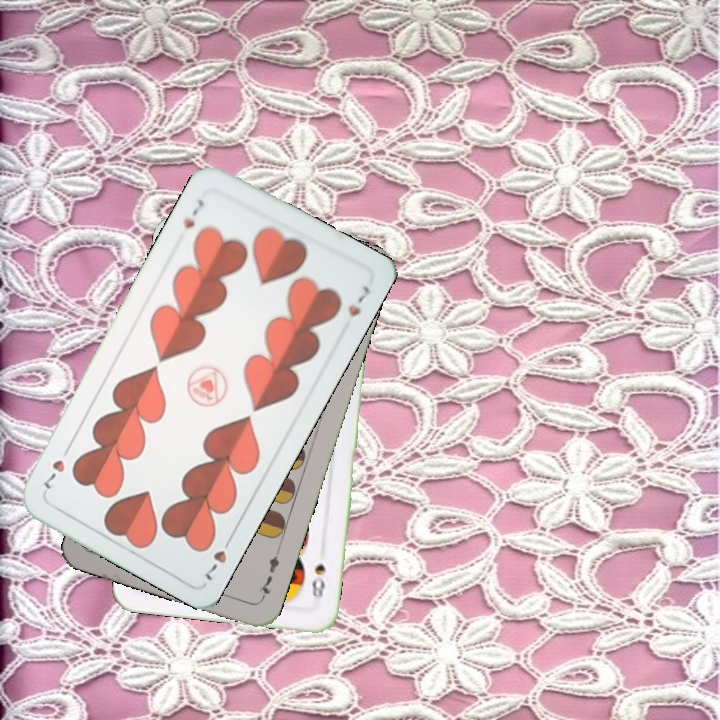E7: (254, 545, 283, 603)
H7: (201, 530, 236, 584), (179, 195, 208, 231)
S8: (307, 560, 328, 607)
